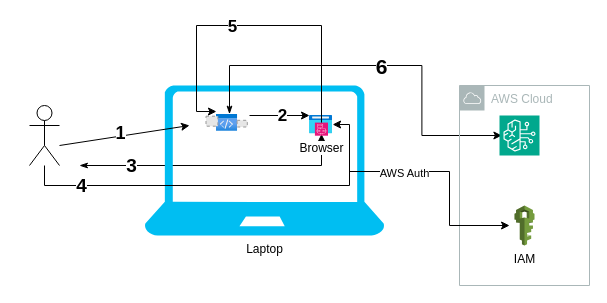
This 607x303 diagram has some shape labels left out. Grey dashed boxes stand in for pictures. Here are the shapes that lost their labels. From the top down, the centre of each, then its label:
At (x=44, y=135): "Developer".
At (x=226, y=122): "Python Code".
